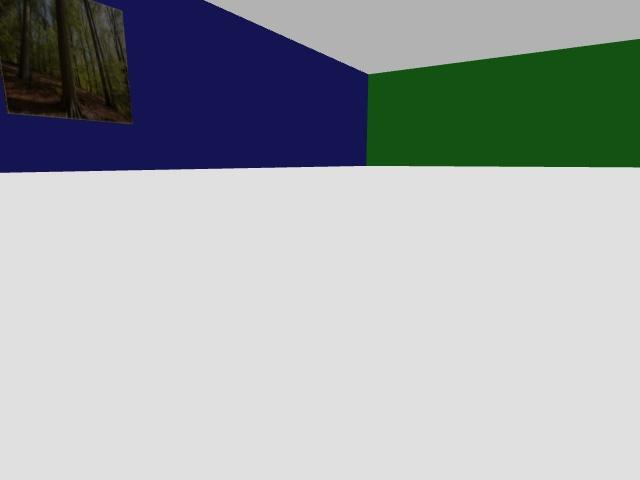tree: (83, 0, 115, 107), (55, 0, 82, 118), (18, 0, 31, 79), (107, 9, 125, 63)
